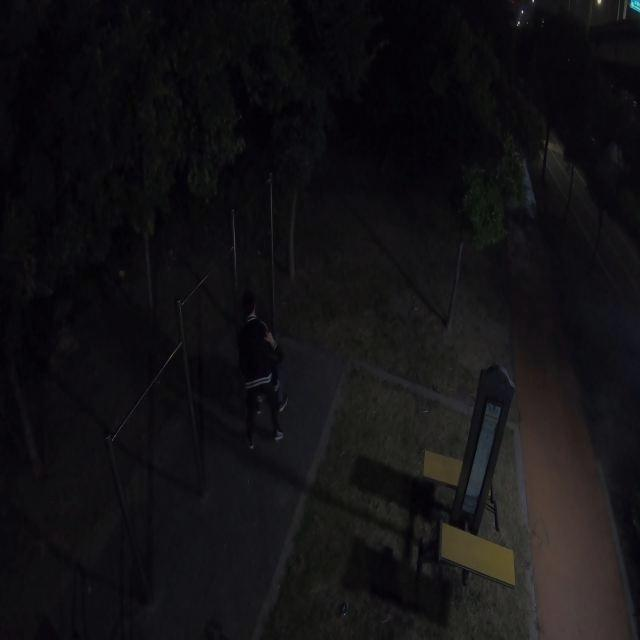fight: (231, 298, 290, 443)
